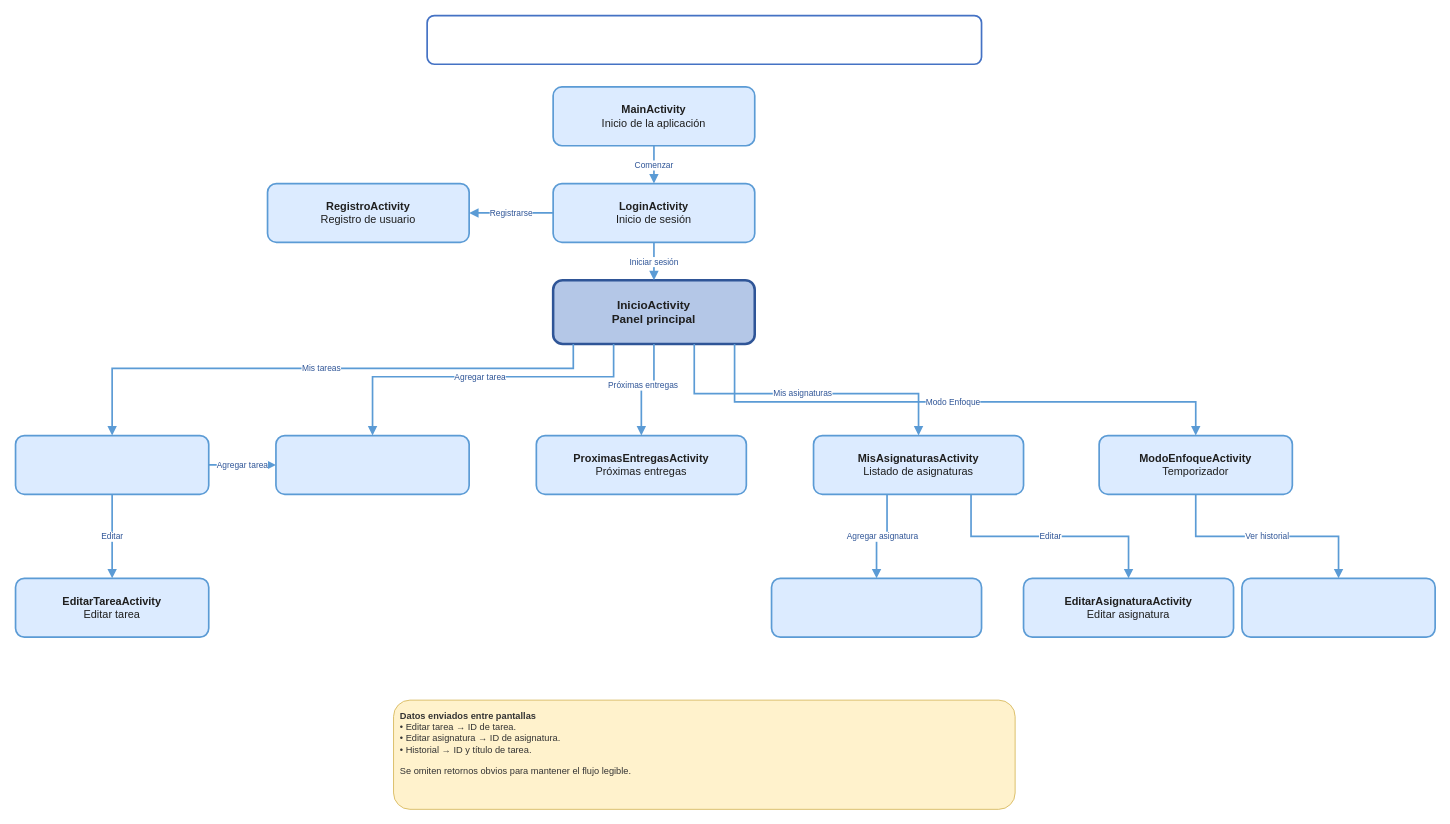
Image size: 1450x824. Some labels were removed from this diagram. The shapes that lost their labels are listed below. From the top down, each one's centre as x and y in pixels, then its label:
[704,39]: Diagrama de Navegación – UniTasky
[111,464]: MisTareasActivity Listado de tareas
[372,464]: AgregarTareaActivity Nueva tarea
[876,607]: AgregarAsignaturaActivity Nueva asignatura
[1338,607]: HistorialEnfoqueActivity Historial de enfoque
